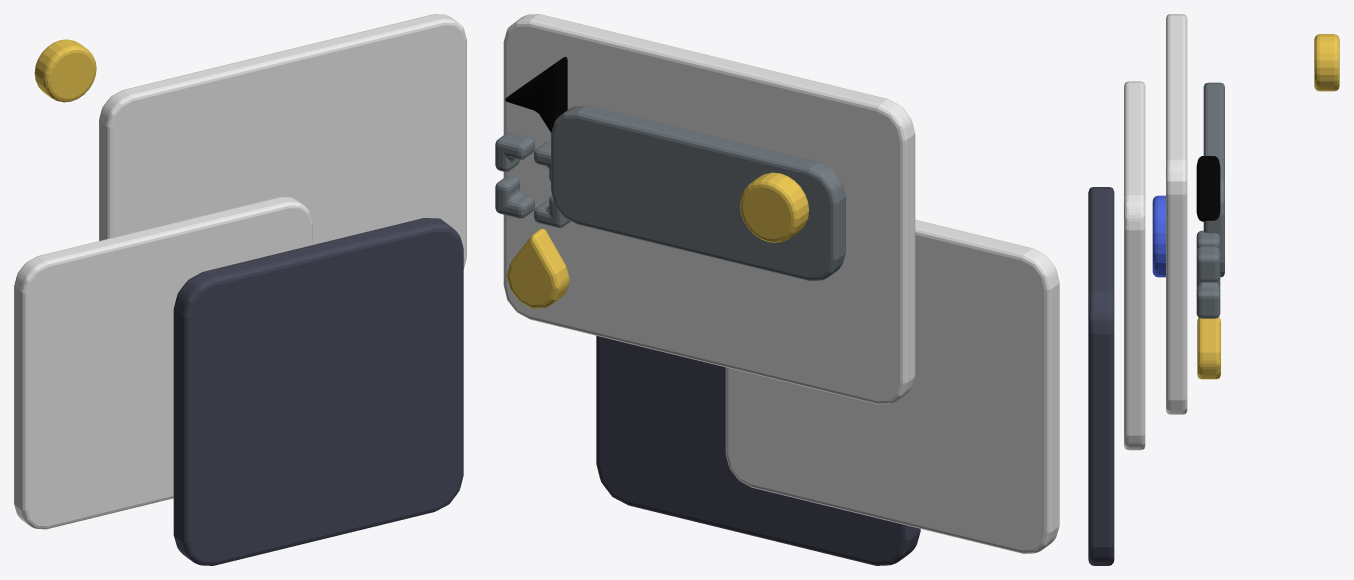
The picture shows the model from 3 angles, left to right: view 1: azimuth 30°, elevation 25°; view 2: azimuth 150°, elevation 25°; view 3: azimuth 270°, elevation 25°; orthographic projection. The views are drawn at different scales.
Visible parts, largest first — view 1: Plane.003, Plane.001, Plane, Yellow_round; view 2: Plane.001, Plane, Plane.002, Plane.003, Yellow_round, Plane.005, Plane.006, Plane.004; view 3: Plane.003, Plane.001, Plane, Plane.002, Plane.005, Plane.004, Yellow_round, Plane.006, Circle.001.
Part boxes in pixels (x1,y1,x2,y2): Plane.003: (173, 218, 463, 565); Plane.001: (99, 14, 466, 269); Plane: (14, 197, 312, 529); Yellow_round: (34, 39, 96, 102); Plane.001: (503, 14, 915, 404); Plane: (725, 219, 1059, 553); Plane.002: (551, 105, 845, 280); Plane.003: (596, 336, 920, 565); Yellow_round: (740, 172, 809, 242); Plane.005: (495, 132, 570, 227); Plane.006: (507, 228, 569, 308); Plane.004: (505, 56, 567, 132); Plane.003: (1088, 187, 1114, 565); Plane.001: (1166, 14, 1187, 414); Plane: (1124, 81, 1145, 450); Plane.002: (1203, 82, 1224, 277); Plane.005: (1196, 230, 1220, 318); Plane.004: (1196, 156, 1220, 221); Yellow_round: (1314, 34, 1339, 91); Plane.006: (1197, 317, 1220, 379); Circle.001: (1152, 195, 1165, 277).
Size of the model in its own units: 1.47 by 1.35 by 0.7225.
